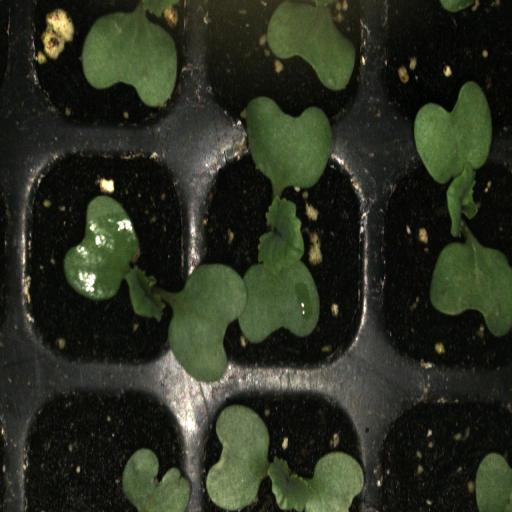seedling: (192, 139, 374, 378), (15, 139, 191, 376), (378, 138, 512, 378)
